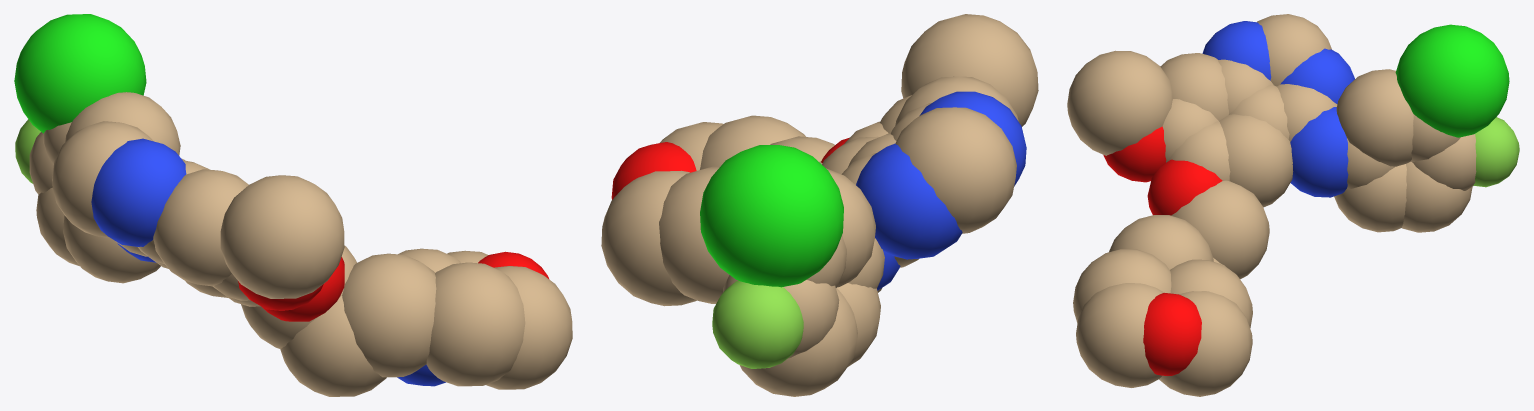
File: gefitinib.dae
3 views of the same model, side by side, from view 1: azimuth 30°, elevation 25°; view 2: azimuth 150°, elevation 25°; view 3: azimuth 270°, elevation 25° (orthographic). The views are drawn at different scales.
Visible parts, largest first — view 1: subnode_14, subnode_26, subnode_0, subnode_6, subnode_18, subnode_12, subnode_7, subnode_1, subnode_19, subnode_24, subnode_30, subnode_8 (+9 smaller); view 2: subnode_26, subnode_19, subnode_14, subnode_20, subnode_3, subnode_28, subnode_4, subnode_29, subnode_0, subnode_24, subnode_27, subnode_18 (+14 smaller); view 3: subnode_26, subnode_14, subnode_1, subnode_24, subnode_8, subnode_3, subnode_15, subnode_22, subnode_2, subnode_6, subnode_0, subnode_30 (+17 smaller).
Boxes of the visible parts, bbox=[...] form: subnode_14: bbox=[220, 175, 344, 298]; subnode_26: bbox=[14, 14, 146, 133]; subnode_0: bbox=[426, 262, 525, 386]; subnode_6: bbox=[342, 253, 436, 377]; subnode_18: bbox=[91, 138, 186, 246]; subnode_12: bbox=[153, 169, 248, 286]; subnode_7: bbox=[280, 296, 386, 396]; subnode_1: bbox=[486, 266, 572, 389]; subnode_19: bbox=[52, 121, 153, 237]; subnode_24: bbox=[65, 92, 180, 155]; subnode_30: bbox=[63, 215, 160, 283]; subnode_8: bbox=[241, 245, 356, 348]; subnode_26: bbox=[700, 145, 843, 287]; subnode_19: bbox=[895, 107, 1016, 233]; subnode_14: bbox=[901, 14, 1038, 126]; subnode_20: bbox=[856, 143, 962, 259]; subnode_3: bbox=[601, 170, 696, 306]; subnode_28: bbox=[712, 280, 803, 368]; subnode_4: bbox=[659, 166, 729, 303]; subnode_29: bbox=[739, 288, 857, 396]; subnode_0: bbox=[700, 115, 805, 169]; subnode_24: bbox=[826, 168, 875, 287]; subnode_27: bbox=[723, 275, 839, 358]; subnode_18: bbox=[919, 91, 1026, 186]; subnode_26: bbox=[1395, 24, 1509, 137]; subnode_14: bbox=[1067, 50, 1172, 155]; subnode_1: bbox=[1076, 283, 1164, 387]; subnode_24: bbox=[1336, 69, 1413, 166]; subnode_8: bbox=[1171, 180, 1269, 279]; subnode_3: bbox=[1159, 291, 1252, 396]; subnode_15: bbox=[1219, 114, 1293, 207]; subnode_22: bbox=[1290, 107, 1348, 197]; subnode_2: bbox=[1143, 293, 1201, 375]; subnode_6: bbox=[1109, 215, 1213, 269]; subnode_0: bbox=[1073, 249, 1171, 322]; subnode_30: bbox=[1334, 164, 1406, 232].
Size of the model in its own units: 14.57 by 9.94 by 15.64.
